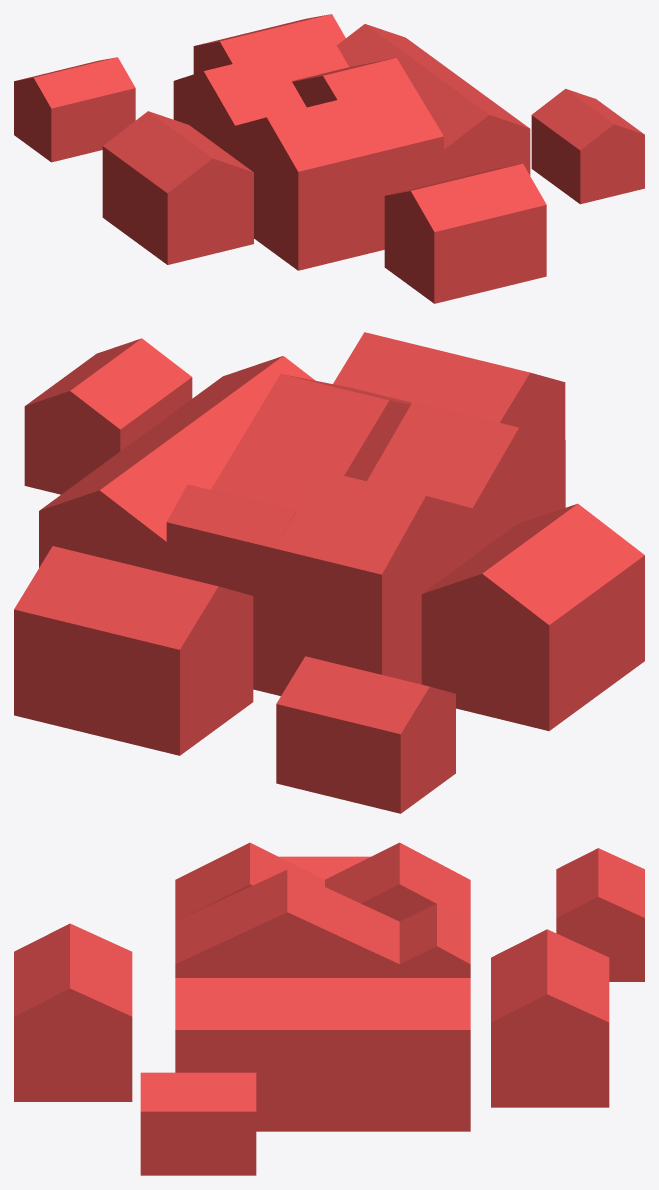
Rendered from SM_Small_City_01.fbx.
3 views of the same model, one above another, from view 1: azimuth 30°, elevation 25°; view 2: azimuth 150°, elevation 25°; view 3: azimuth 270°, elevation 25° (orthographic). The views are drawn at different scales.
Parts seen in each view (by area): view 1: SM_Small_City_01; view 2: SM_Small_City_01; view 3: SM_Small_City_01.
Part boxes in pixels (<box>): SM_Small_City_01: <box>14,14,644,303</box>; SM_Small_City_01: <box>14,332,644,813</box>; SM_Small_City_01: <box>14,842,644,1175</box>.
Size of the model in its own units: 31.09 by 10 by 33.74.
